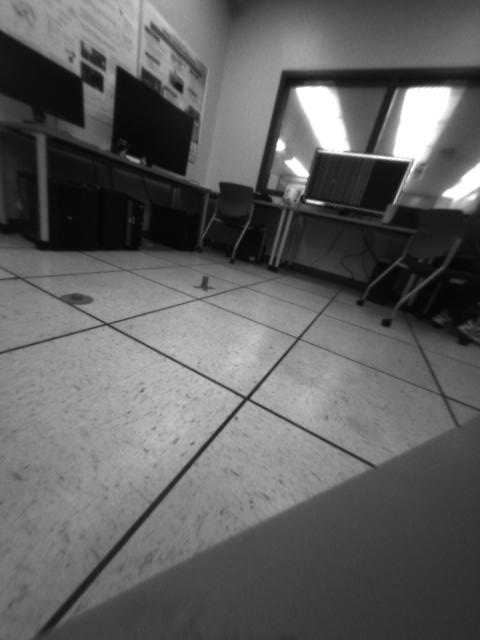X: (190, 275, 217, 293)
